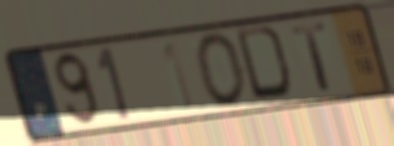1: (93, 44, 134, 124), (161, 40, 197, 111)
9: (52, 50, 102, 129)
D: (232, 23, 298, 103)
O: (194, 30, 249, 110)
T: (288, 20, 336, 94)
